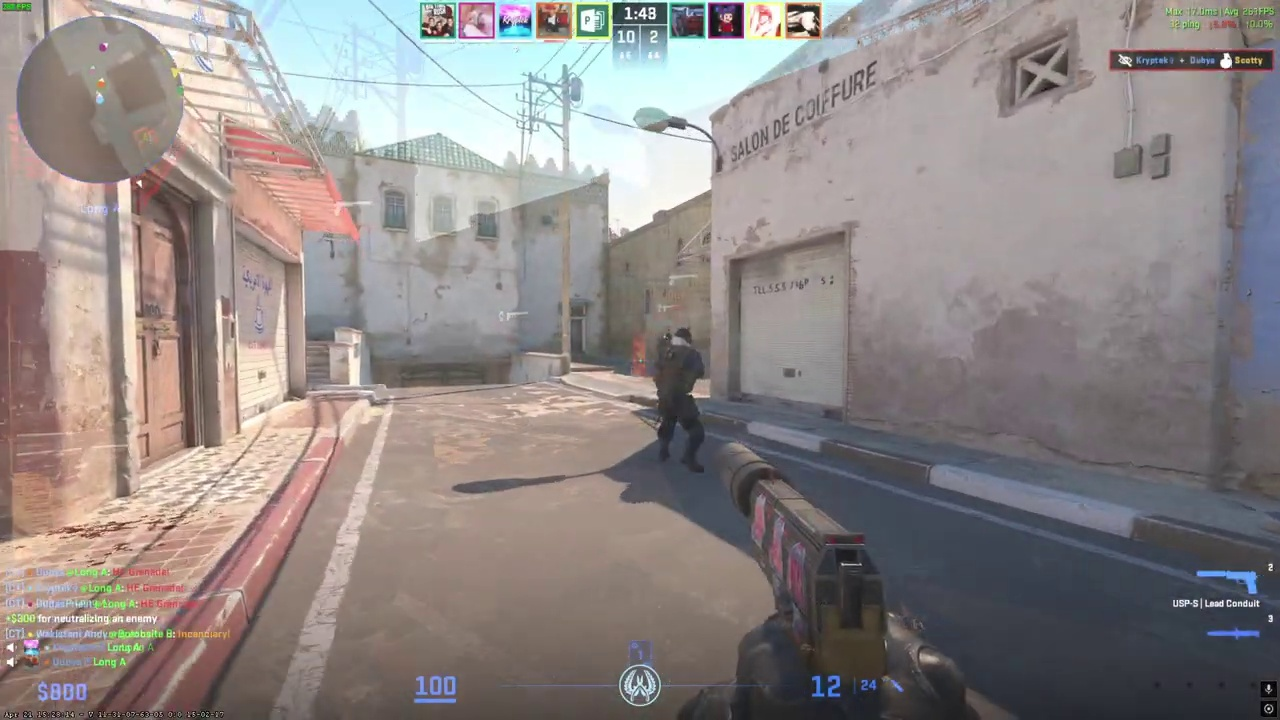CT: (654, 328, 705, 473)
